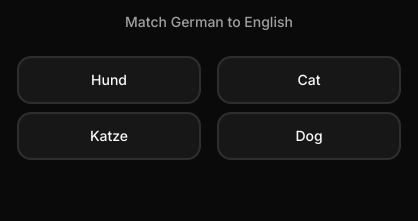
Test: MatchingExercise › shows completion message when all matched
Click the button "Hund" at coordinates (109, 80), box x1=17 y1=56 x2=201 y2=104
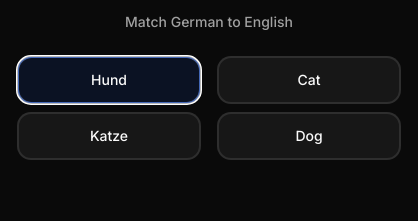
Click the button "Dog" at coordinates (309, 136), box x1=217 y1=112 x2=401 y2=160
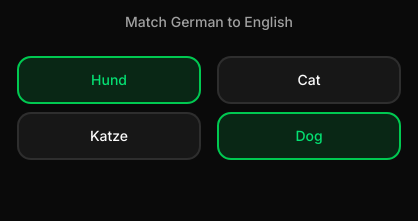
Click the button "Katze" at coordinates (109, 136), box x1=17 y1=112 x2=201 y2=160
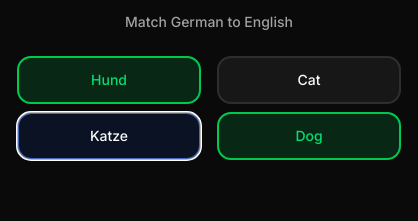
Click the button "Cat" at coordinates (309, 80), box x1=217 y1=56 x2=401 y2=104
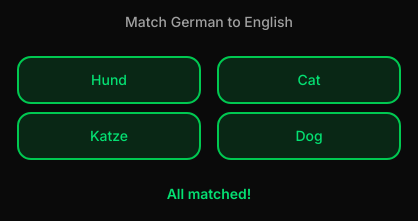
Now the text "All matched!" is shown, box x1=167 y1=184 x2=251 y2=204
